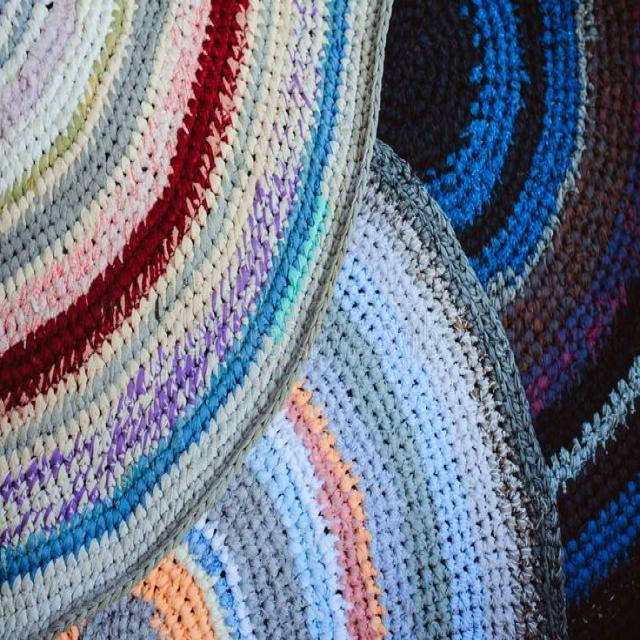clothes: (28, 21, 354, 588)
